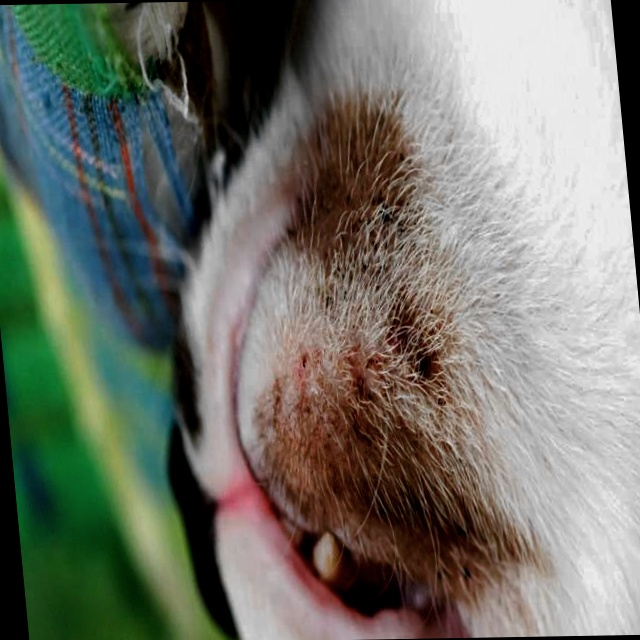acne: (336, 293, 458, 429)
